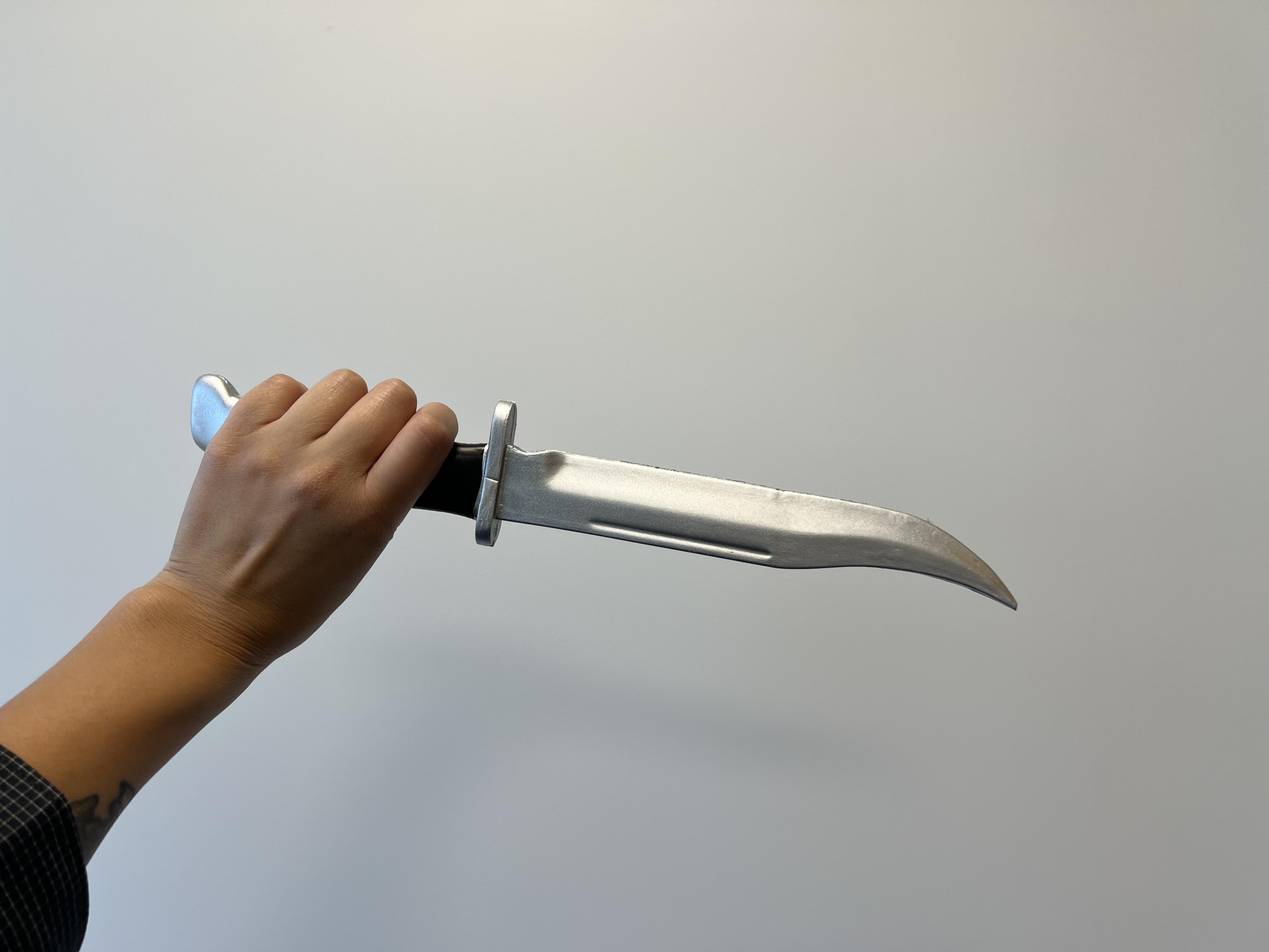Knife: (0, 367, 457, 952), (424, 401, 1019, 612), (168, 368, 458, 599)
